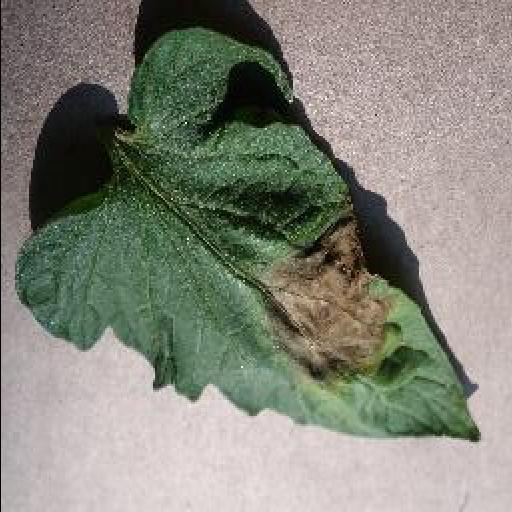disease_tomato: (14, 28, 480, 444)
